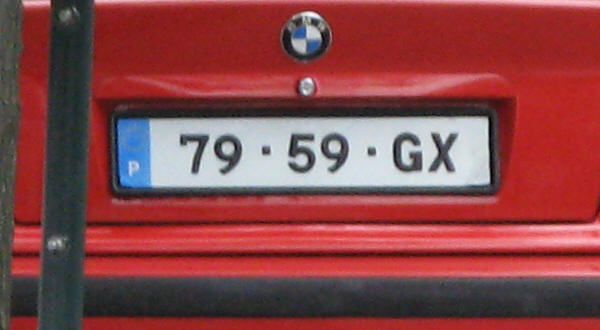license_plate: (113, 113, 491, 189)
